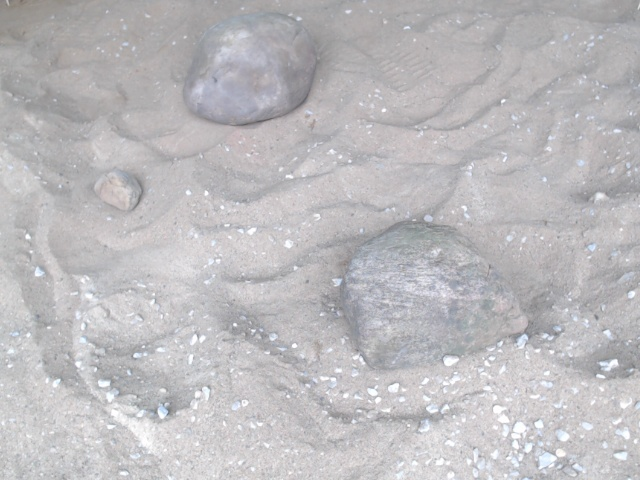rock: (333, 216, 533, 377), (178, 8, 321, 131), (89, 166, 145, 215)
